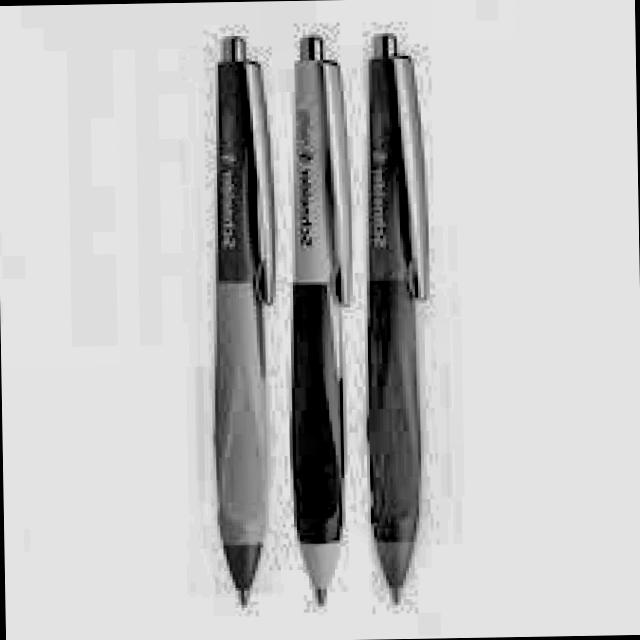Pen: (167, 32, 302, 632), (342, 19, 470, 612)
